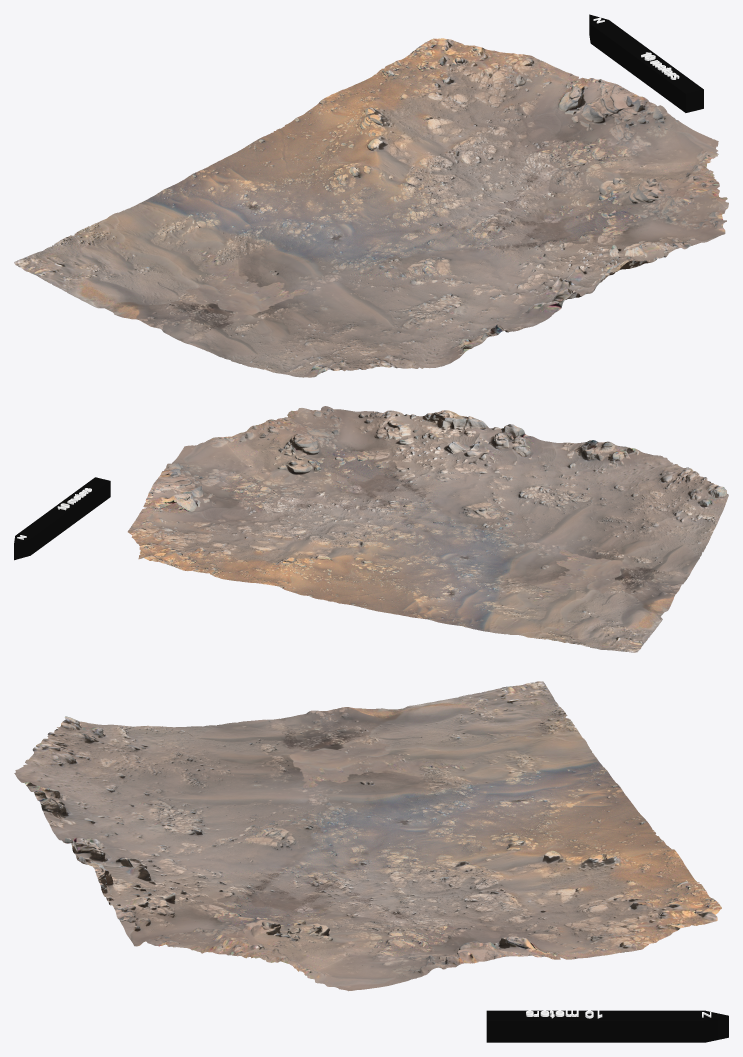
File: mars_terrain0.glb
The picture shows the model from 3 angles, top to bottom: view 1: azimuth 30°, elevation 25°; view 2: azimuth 150°, elevation 25°; view 3: azimuth 270°, elevation 25°; orthographic projection. The views are drawn at different scales.
Visible parts, largest first — view 1: Object_4, Object_5, Object_3, Object_2; view 2: Object_4, Object_3, Object_5, Object_2; view 3: Object_4, Object_3, Object_5, Object_2.
Part boxes in pixels (bbox=[...]): Object_4: bbox=[260, 38, 725, 368]; Object_5: bbox=[309, 64, 728, 332]; Object_3: bbox=[14, 138, 371, 377]; Object_2: bbox=[589, 14, 703, 112]; Object_4: bbox=[127, 409, 699, 604]; Object_3: bbox=[351, 475, 728, 652]; Object_5: bbox=[133, 406, 616, 559]; Object_2: bbox=[14, 477, 110, 560]; Object_4: bbox=[14, 738, 721, 991]; Object_3: bbox=[47, 681, 647, 830]; Object_5: bbox=[144, 778, 613, 963]; Object_2: bbox=[486, 1010, 728, 1042].
Size of the model in its own units: 36.39 by 2.98 by 29.51.
Materials: 6 (3 with a texture image).
